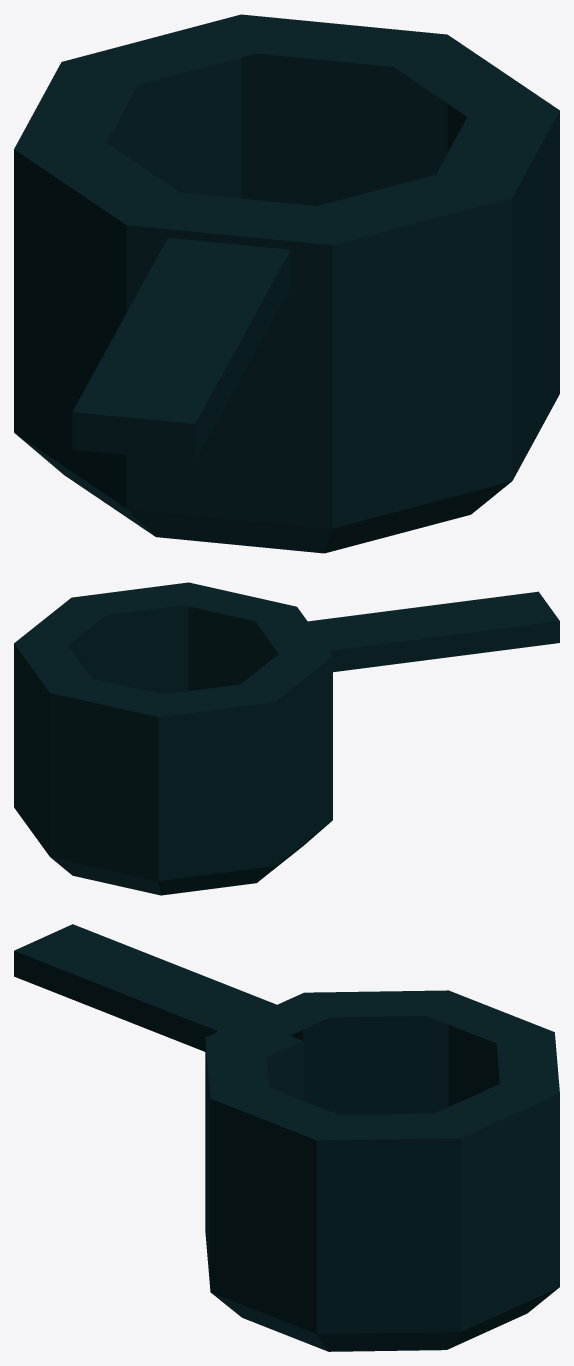
File: KITCHEN INVENTORY 7.fbx
The picture shows the model from 3 angles, top to bottom: view 1: azimuth 30°, elevation 25°; view 2: azimuth 150°, elevation 25°; view 3: azimuth 270°, elevation 25°; orthographic projection. The views are drawn at different scales.
Parts seen in each view (by area): view 1: KITCHEN_INVENTORY_7; view 2: KITCHEN_INVENTORY_7; view 3: KITCHEN_INVENTORY_7.
Part boxes in pixels (x1=…): KITCHEN_INVENTORY_7: x1=14, y1=14, x2=559, y2=553; KITCHEN_INVENTORY_7: x1=14, y1=582, x2=559, y2=895; KITCHEN_INVENTORY_7: x1=14, y1=924, x2=559, y2=1351.
Bounding box in the file's own units: 40.51 × 19.16 × 42.08.
1 material, 1 textured.
